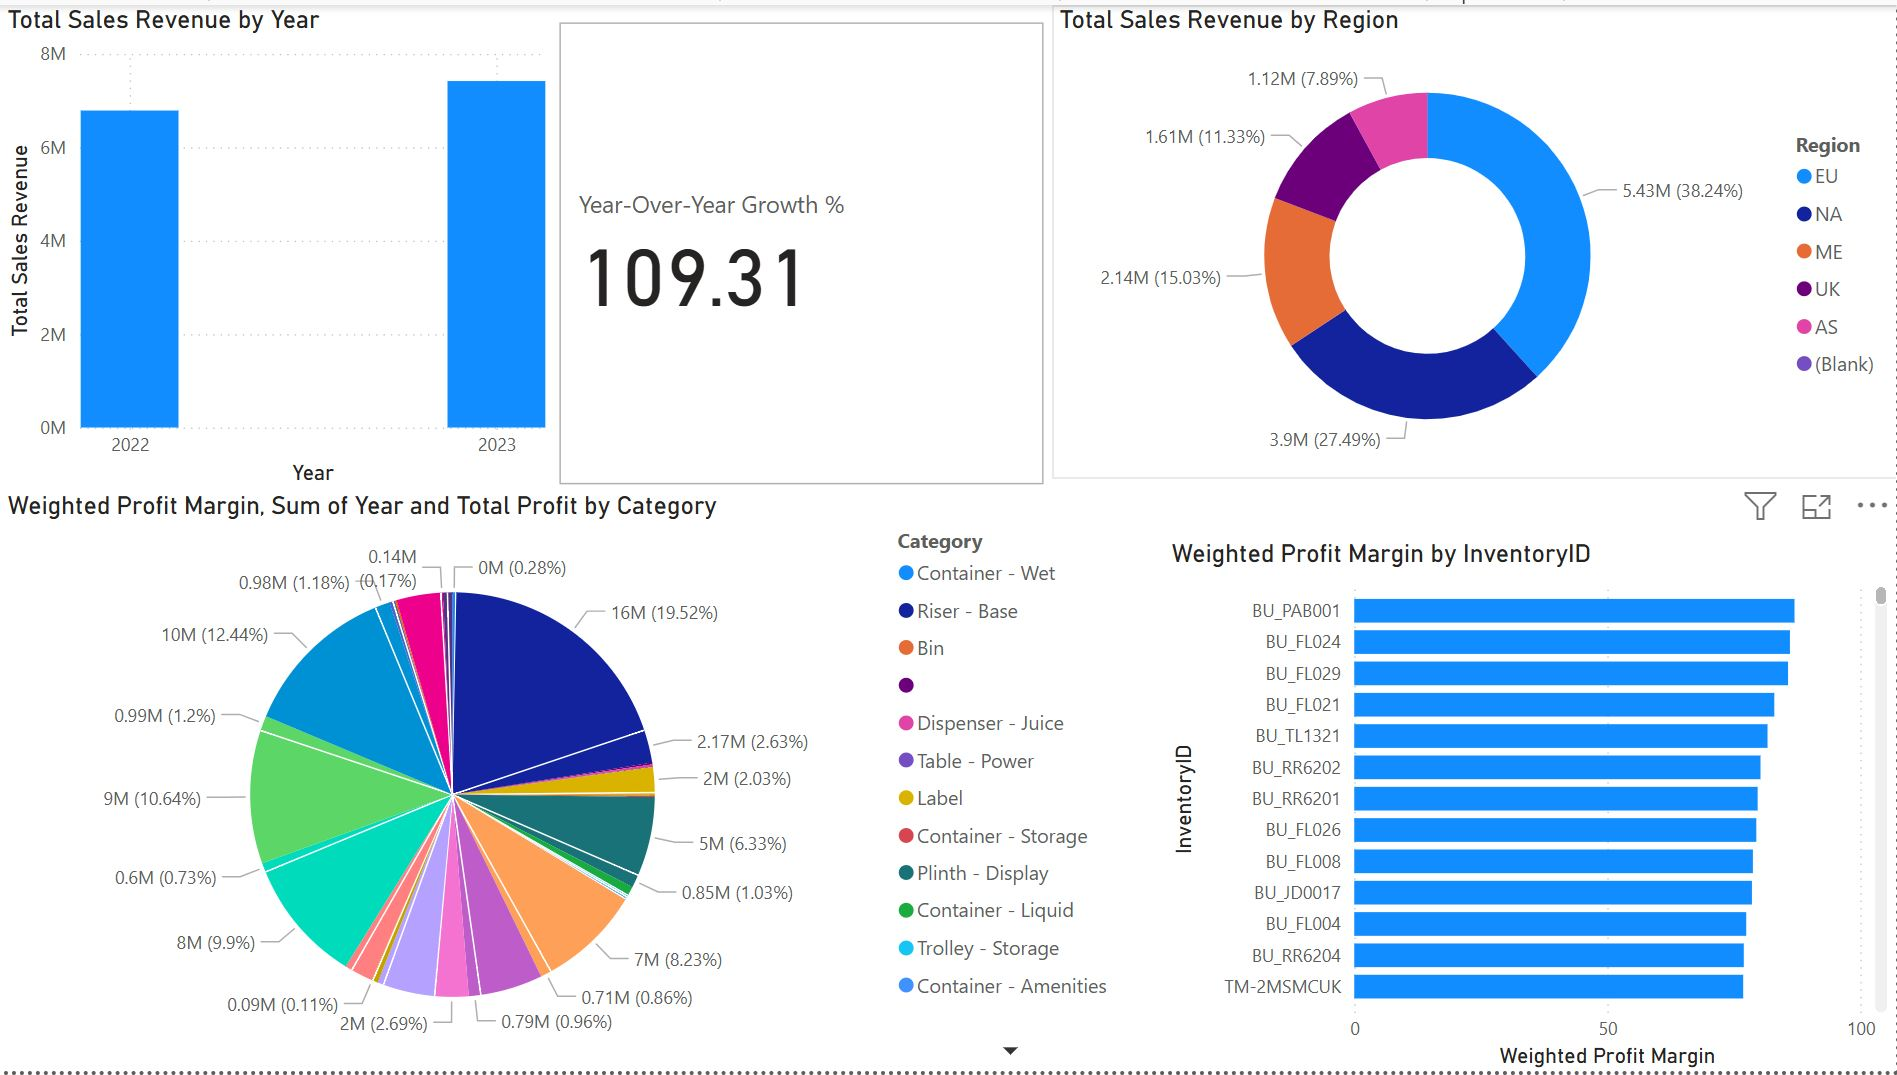

The page's visual inventory and layout, read from the dashboard file:
{"tool":"powerbi","page":{"name":"High Level Metrics","canvas":[1280,720],"ordinal":1},"visuals":[{"type":"columnChart","fields":{"Category":["Sales Data Combined.Year"],"Y":["Sales Data Combined.Total Sales Revenue"]},"box":[0,0,373.3,328.9],"z":0},{"type":"cardVisual","fields":{"Data":["Sales Data Combined.Year-Over-Year Growth %"]},"box":[373.3,6.7,337.8,322.2],"z":1000},{"type":"donutChart","fields":{"Y":["Sales Data Combined.Total Sales"],"Category":["Craster Technical Exercise - Customer Data.Region"]},"box":[711.1,0,571.1,320],"z":2000},{"type":"pieChart","fields":{"Category":["Craster Technical Exercise - Product Data.Category"],"Y":["Sales Data Combined.Weighted Profit Margin","Sum(Sales Data Combined.Year)","Sales Data Combined.Total Profit"]},"box":[0,328.9,762.2,391.1],"z":3000},{"type":"clusteredBarChart","fields":{"Category":["Craster Technical Exercise - Product Data.InventoryID","Craster Technical Exercise - Customer Data.CountryName","Craster Technical Exercise - Customer Data.Region","Craster Technical Exercise - Product Data.Item Description","Craster Technical Exercise - Product Data.Category"],"Y":["Sales Data Combined.Weighted Profit Margin"]},"box":[786.7,360,493.3,362.2],"z":4000}]}

Visuals, with their boxes in screenshot pixels (x1, y1, x2, y2), scaled from the page's 1280x720 canvas onto the 1897x1075 screenshot:
columnChart - Sales Data Combined.Year x Sales Data Combined.Total Sales Revenue: 0 0 553 491
cardVisual - Sales Data Combined.Year-Over-Year Growth %: 553 10 1054 491
donutChart - Sales Data Combined.Total Sales x Craster Technical Exercise - Customer Data.Region: 1054 0 1896 478
pieChart - Craster Technical Exercise - Product Data.Category x Sales Data Combined.Weighted Profit Margin: 0 491 1130 1074
clusteredBarChart - Craster Technical Exercise - Product Data.InventoryID x Craster Technical Exercise - Customer Data.CountryName: 1166 538 1896 1074
